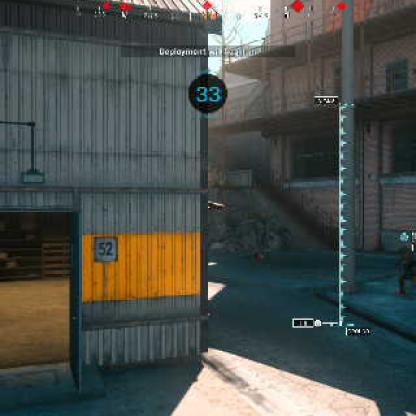enemy: (394, 242, 416, 296)
